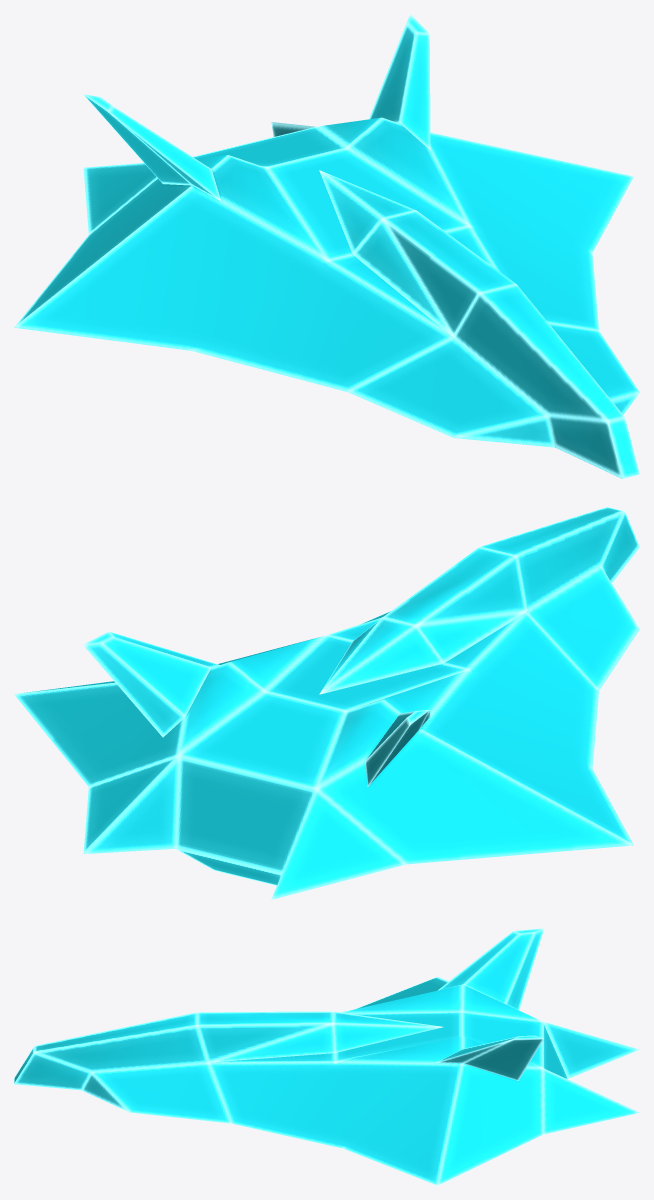
File: ally_fighter.FBX
3 renders of one model, top to bottom at view 1: azimuth 30°, elevation 25°; view 2: azimuth 150°, elevation 25°; view 3: azimuth 270°, elevation 25°, orthographic. The views are drawn at different scales.
Visible parts, largest first — view 1: Fighter_player; view 2: Fighter_player; view 3: Fighter_player.
Part boxes in pixels (x1,y1,x2,y2): Fighter_player: (14, 14, 639, 478); Fighter_player: (14, 507, 639, 899); Fighter_player: (14, 928, 639, 1185).
Bounding box in the file's own units: 20.22 × 6.74 × 25.61.
